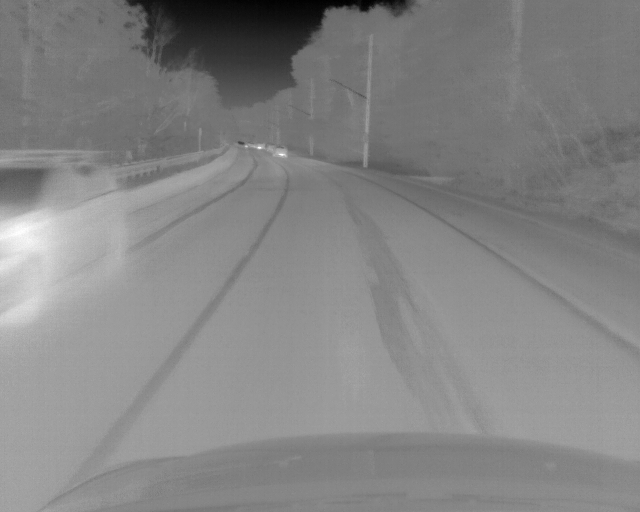car: (1, 148, 129, 325), (272, 145, 288, 159), (266, 143, 274, 152), (256, 143, 265, 150)
